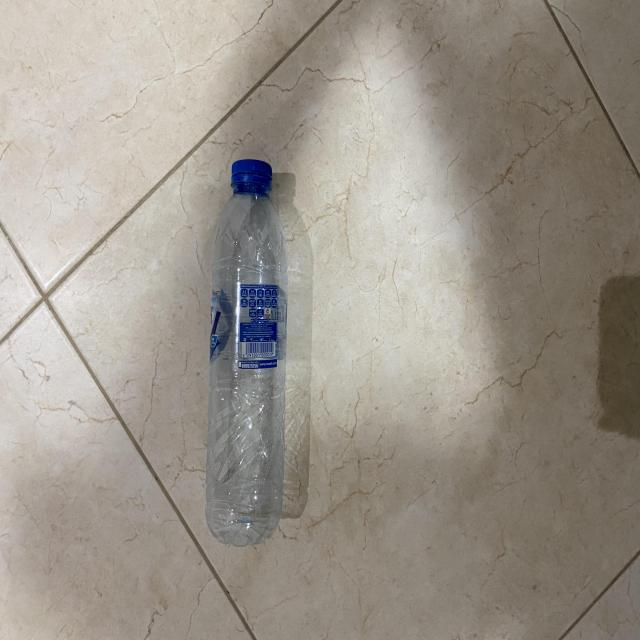bottle: (194, 157, 288, 561)
